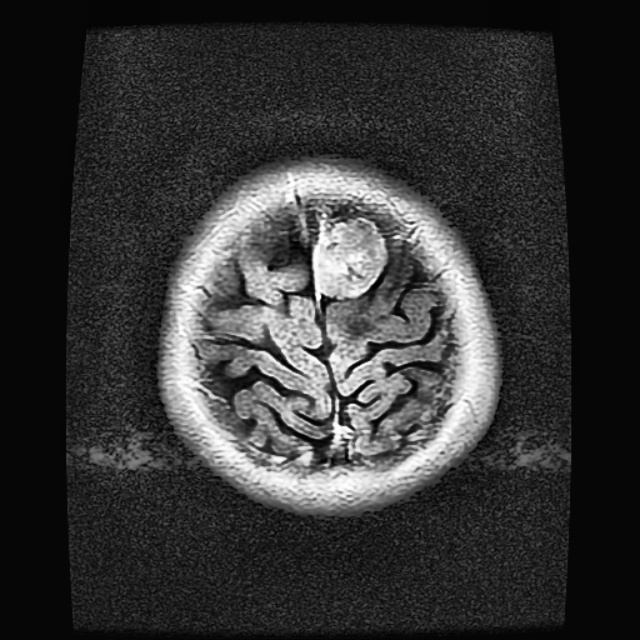Glioma: (314, 220, 384, 293)
